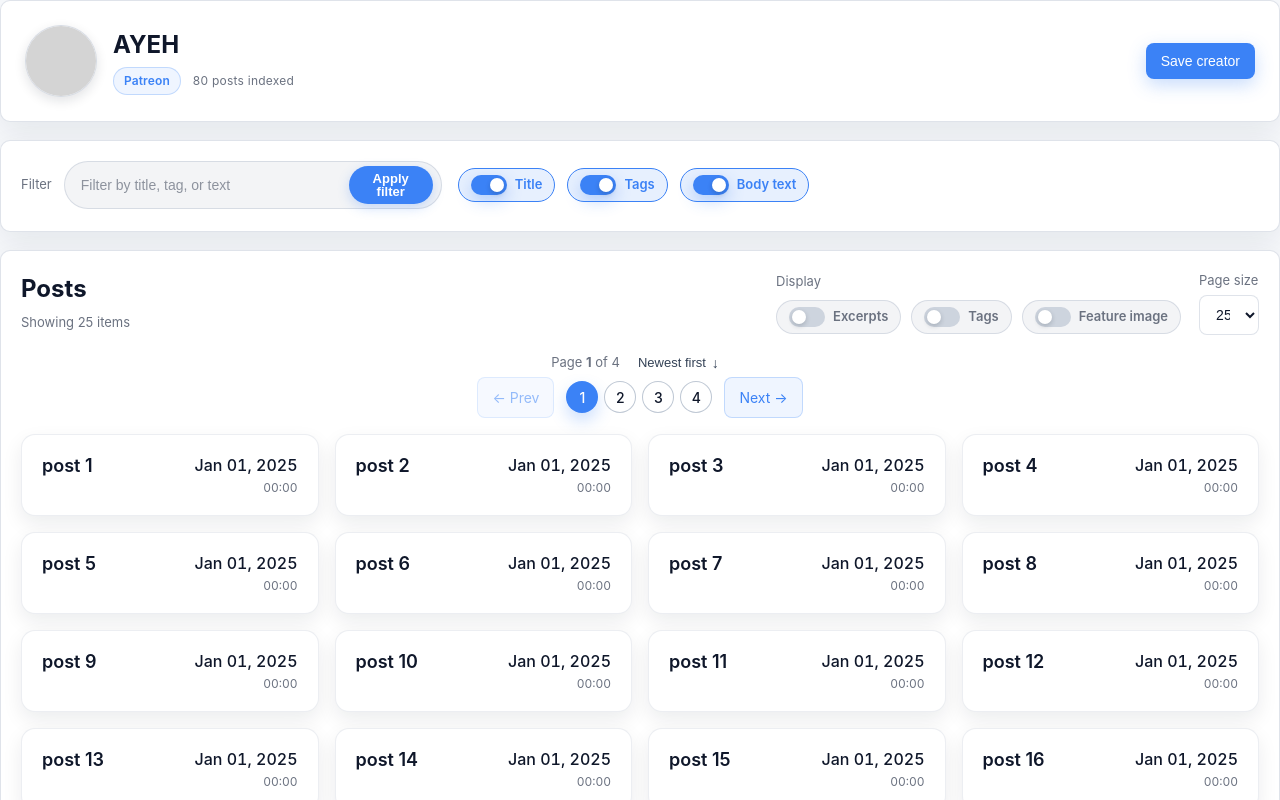
Test: CreatorPage page-size control behavior › falls back to API default for invalid page-size values and remembers page 0 when unfiltered
The image size is (1280, 800).
Check: the text "post 1" is shown, box [42, 454, 93, 476]
Click the link "Next →": [764, 397] box [724, 376, 803, 418]
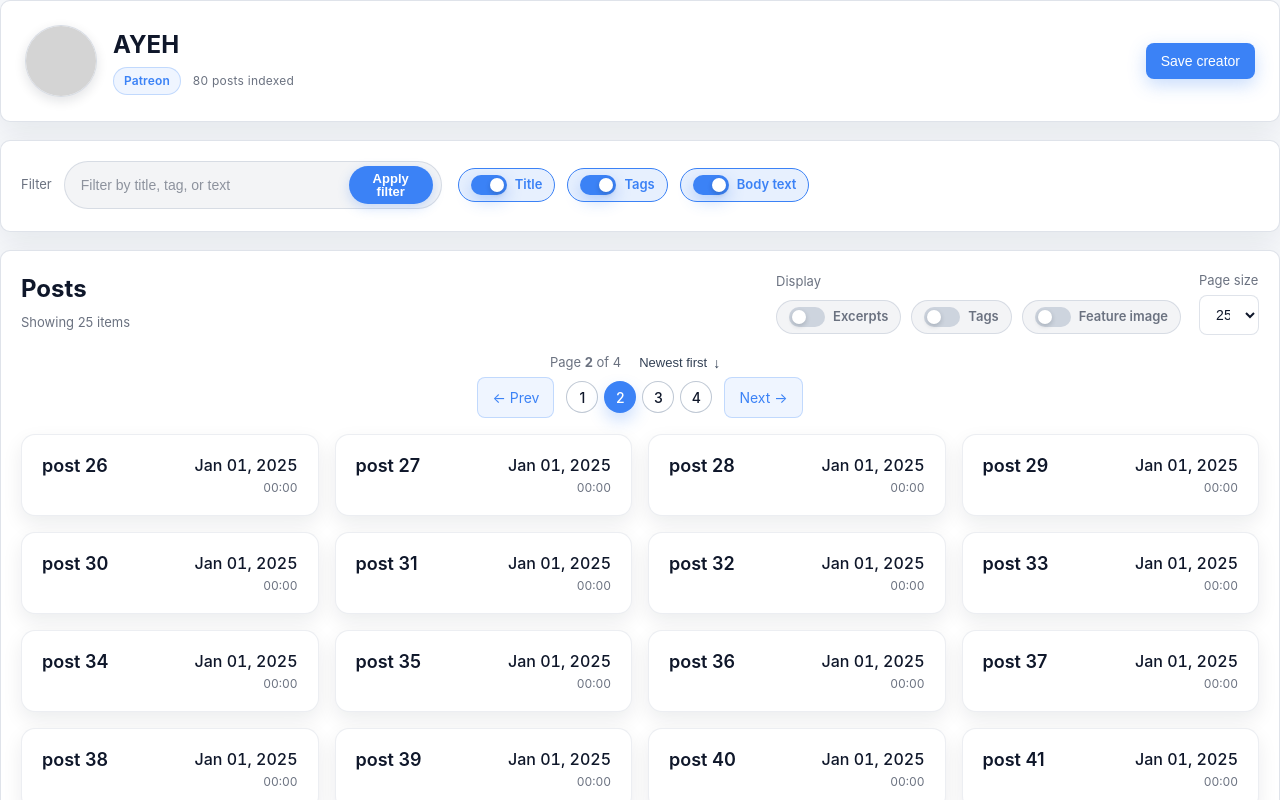
Check: the text "post 26" is shown, box [42, 454, 108, 476]
Select "999" in the dropdown labelled "Page size": [1229, 314] box [1199, 294, 1259, 334]
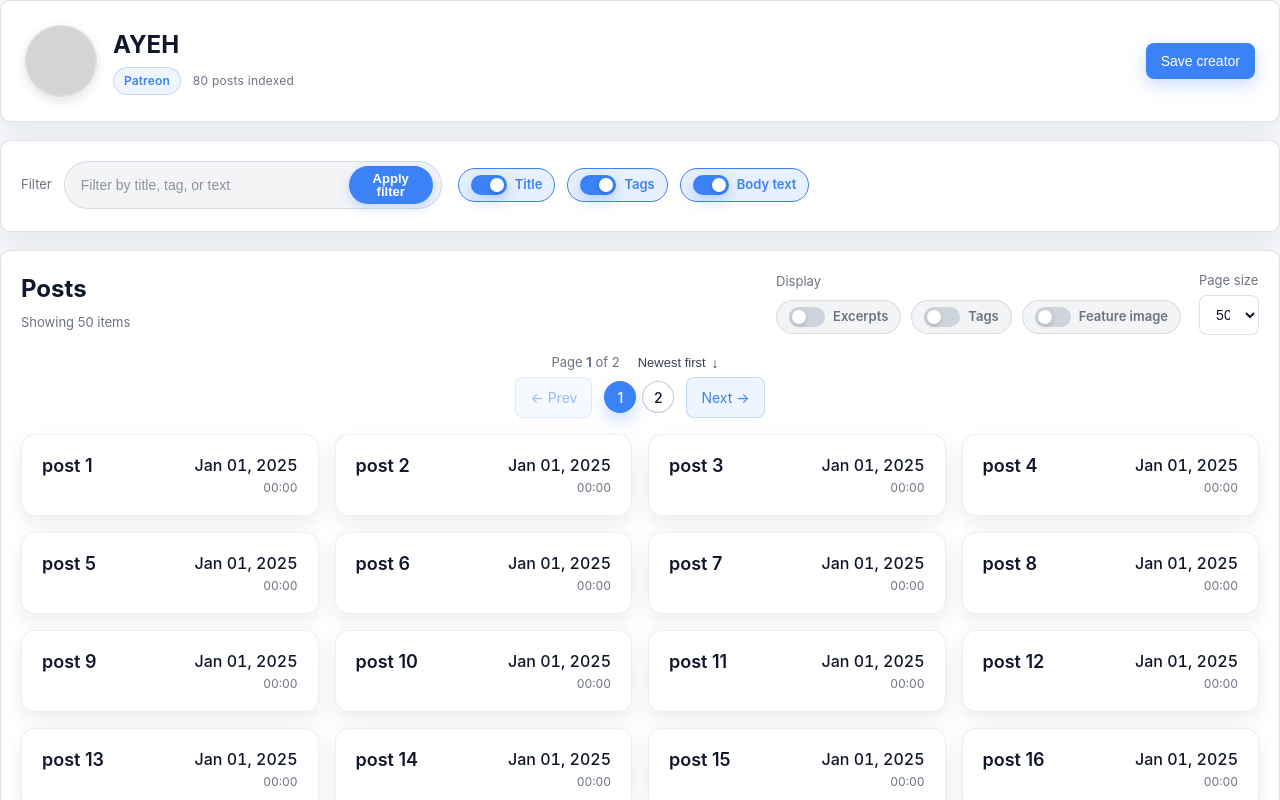
Check: the text "post 1" is shown, box [42, 454, 93, 476]
